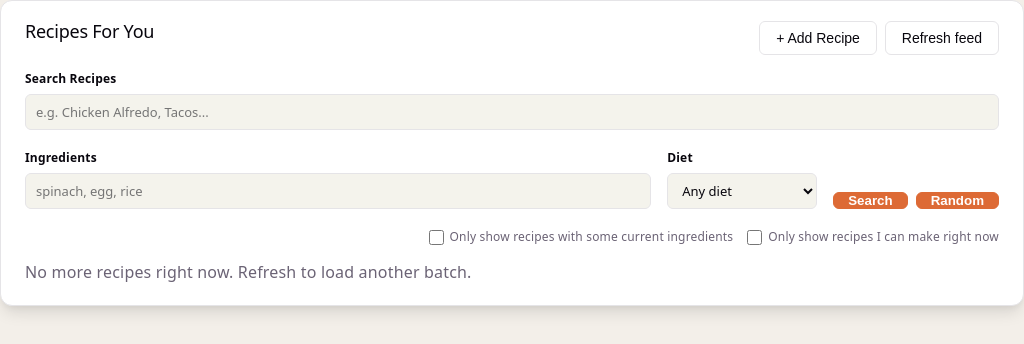
Test case: RecipesPanel › clears the form inputs when the search is cleared
Expected: the button "Search" is enabled, left=833, top=192, right=908, bottom=209
Type "Tacos" into the search field with placeholder "e.g. Chicken Alfredo, Tacos..." at (512, 112), box left=25, top=94, right=999, bottom=130
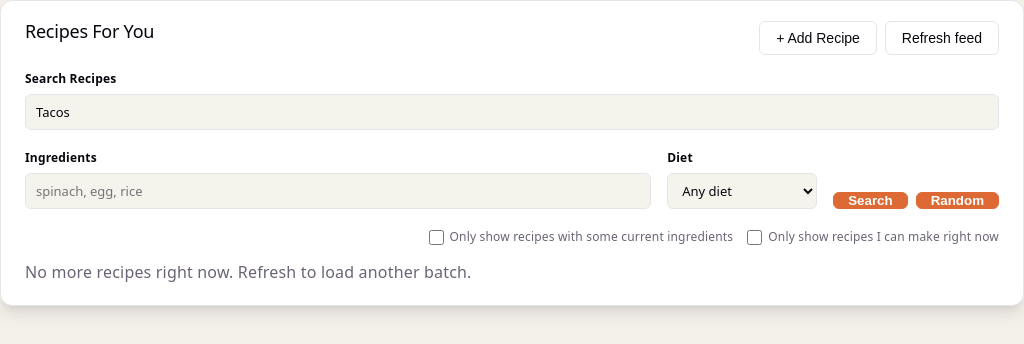
Click the button "Search" at (870, 201), box left=833, top=192, right=908, bottom=209
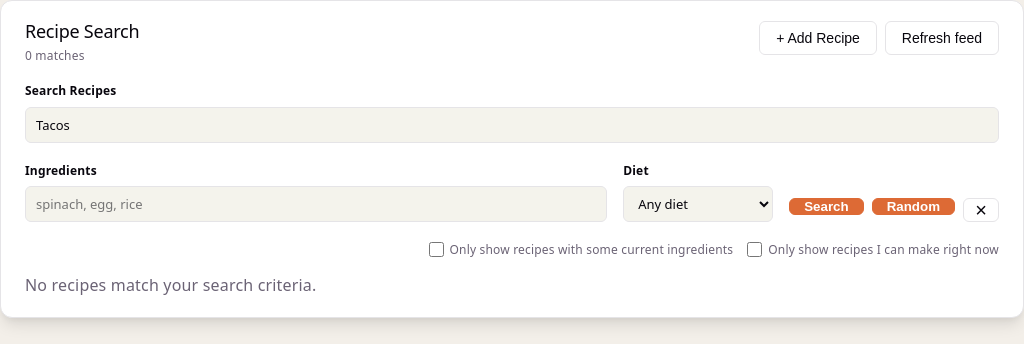
Click the button titled "Clear search" at (981, 210), box left=963, top=198, right=999, bottom=222
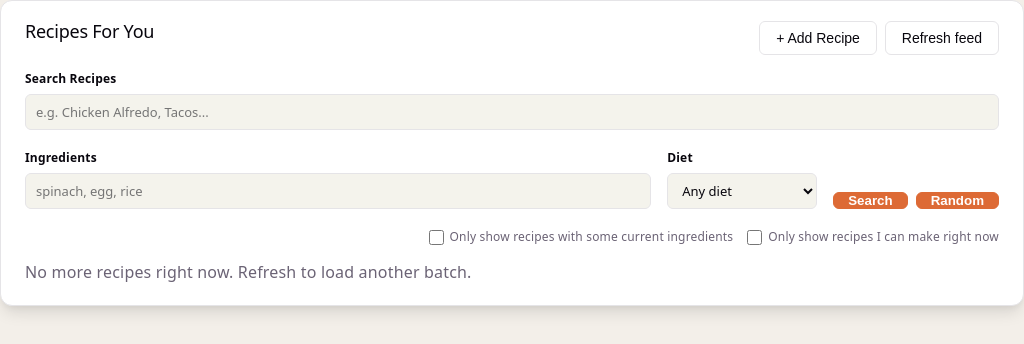
Expected: the search field with placeholder "e.g. Chicken Alfredo, Tacos..." is empty, left=25, top=94, right=999, bottom=130
